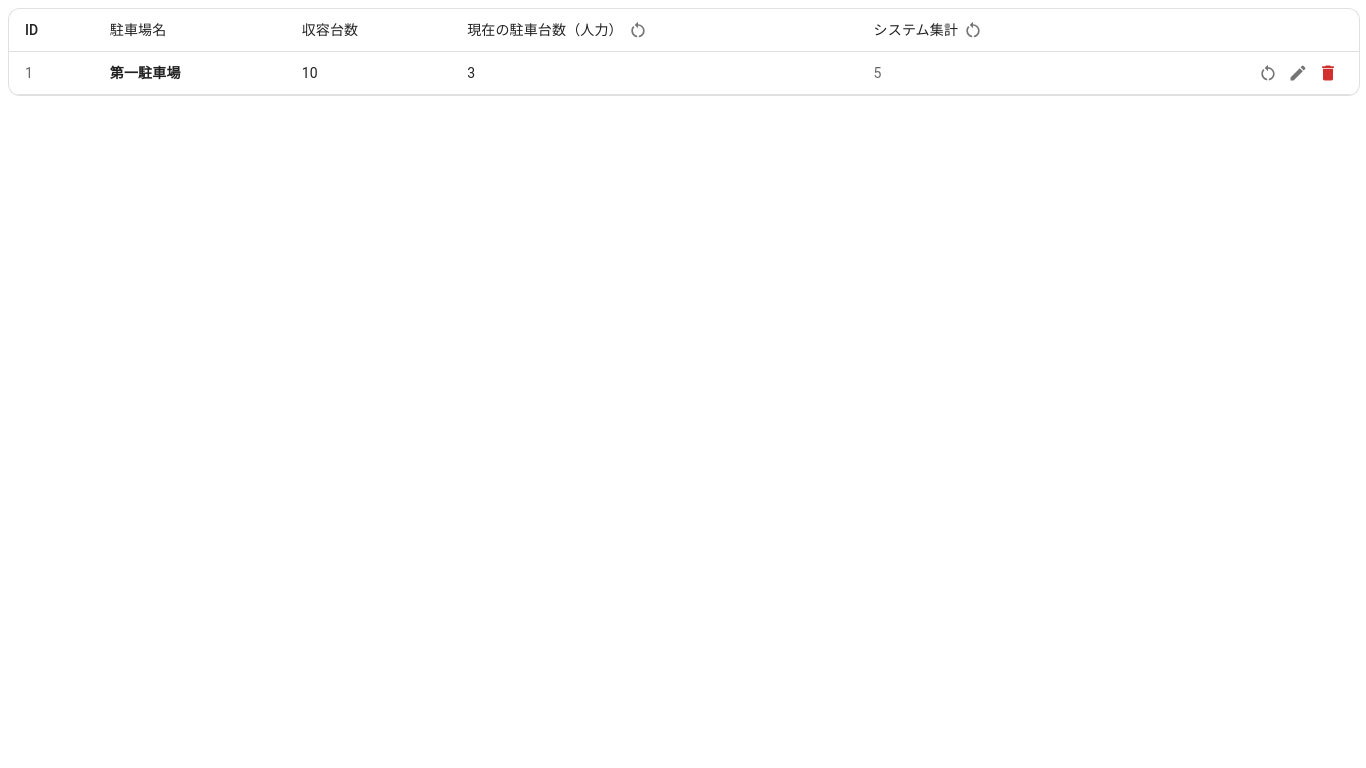
ParkingLotTable › リセット対象をシステムに切り替えると、台数入力欄がsystem_countの値に更新されることを確認する
What coordinates should you click on to do the following:
click the button with test id "RestartAltIcon"
I would click on:
 (1268, 73)
Its box is [1253,58,1283,88].
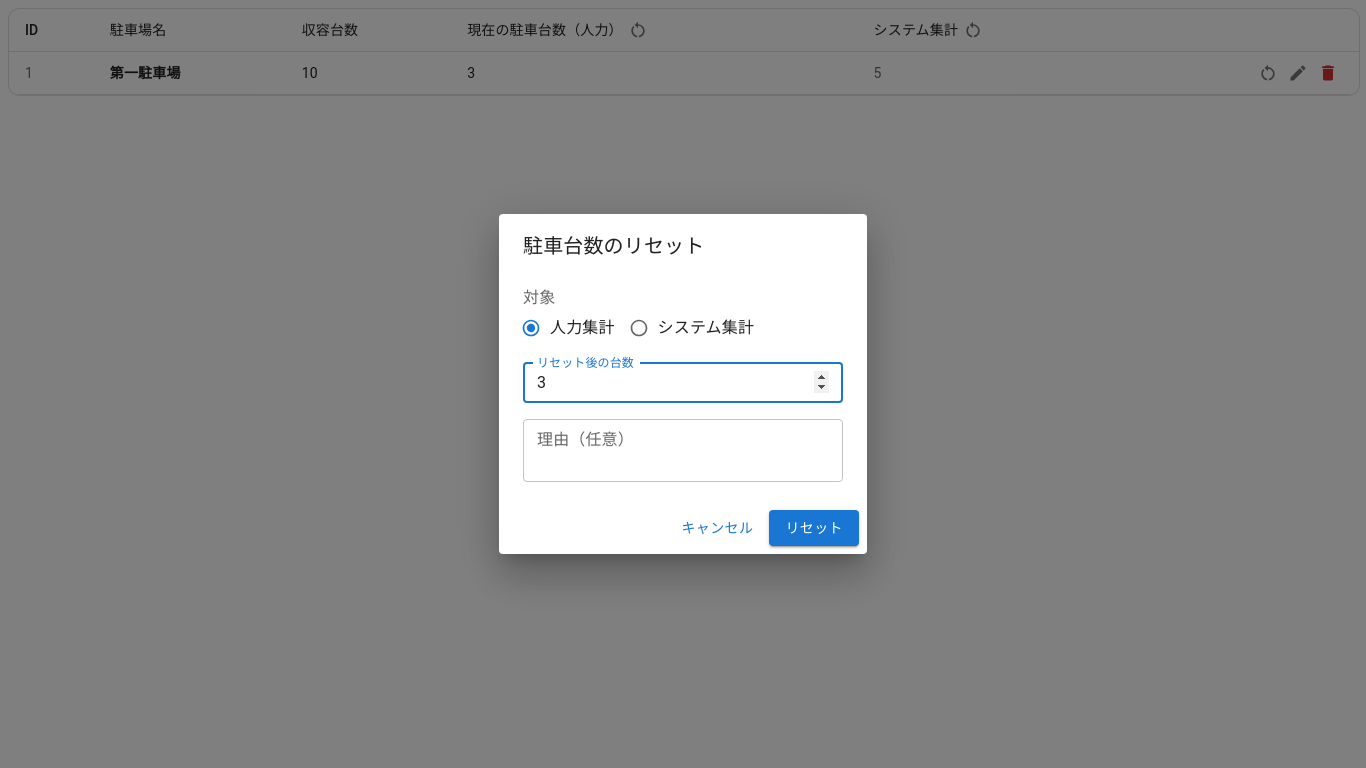
What coordinates should you click on to do the following:
click the radio button labelled "システム集計"
I would click on:
 (691, 328)
Its box is [629,318,754,338].
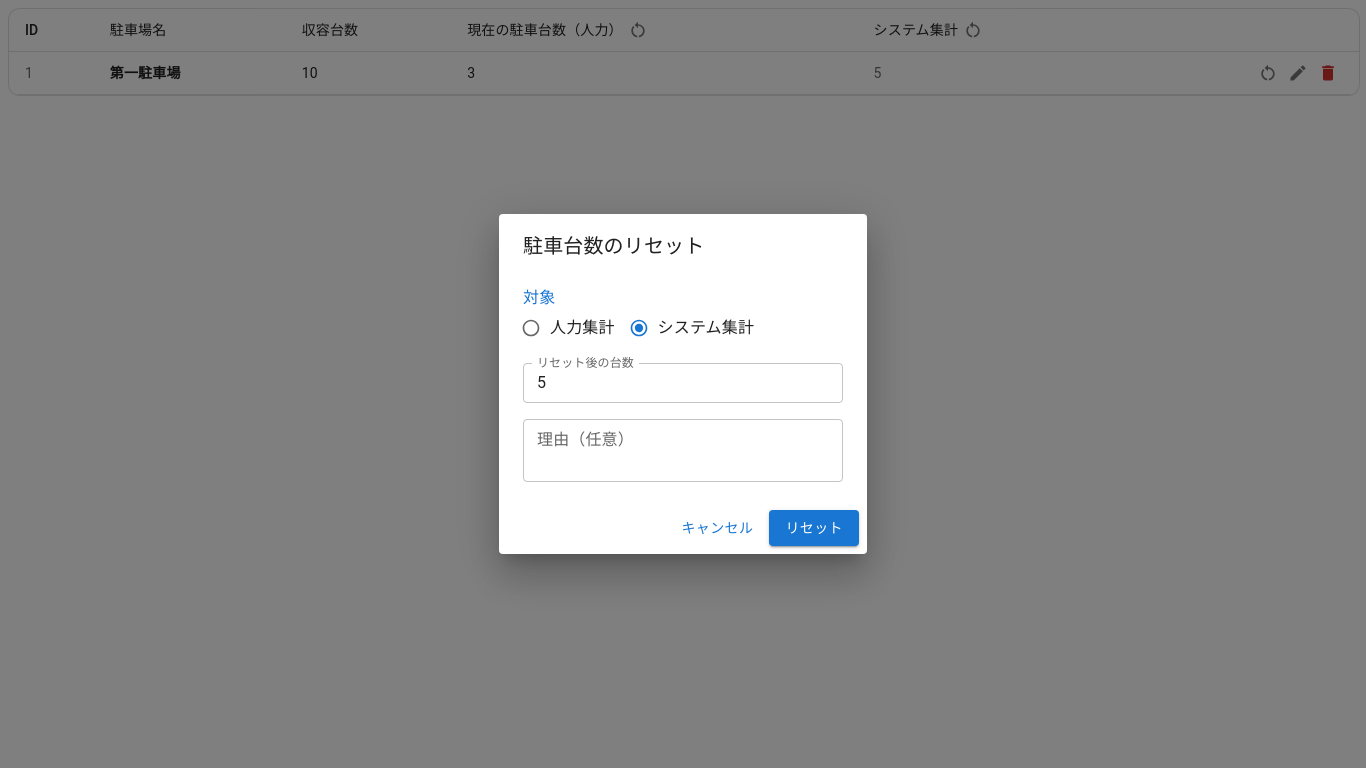
Now the number field labelled "リセット後の台数" holds "5", box [523,363,843,403]
